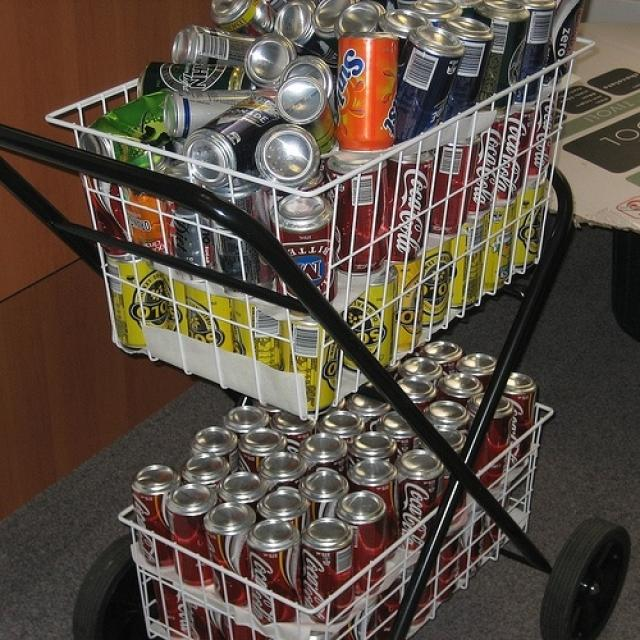can: (114, 391, 448, 581), (90, 0, 586, 125)
